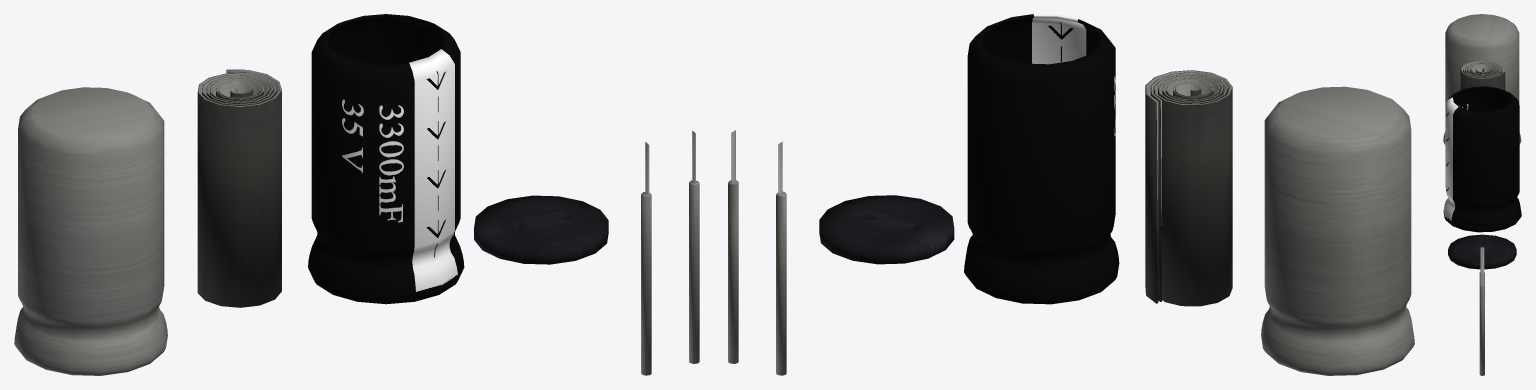
File: Capacitor.glb
The picture shows the model from 3 angles, left to right: view 1: azimuth 30°, elevation 25°; view 2: azimuth 150°, elevation 25°; view 3: azimuth 270°, elevation 25°; orthographic projection. The views are drawn at different scales.
Parts seen in each view (by area): view 1: z_Cubierta plástico; view 2: z_Cubierta plástico; view 3: z_Cubierta plástico.
Boxes of the visible parts, x1,y1,x2,y2 form: z_Cubierta plástico: (14, 14, 699, 375); z_Cubierta plástico: (728, 14, 1414, 375); z_Cubierta plástico: (1443, 14, 1521, 375).
Bounding box in the file's own units: 0.2115 × 0.1189 × 0.0423.
1 material, 1 textured.
